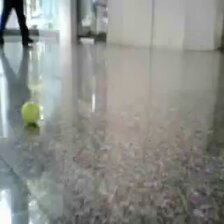tennis: (21, 101, 39, 124)
